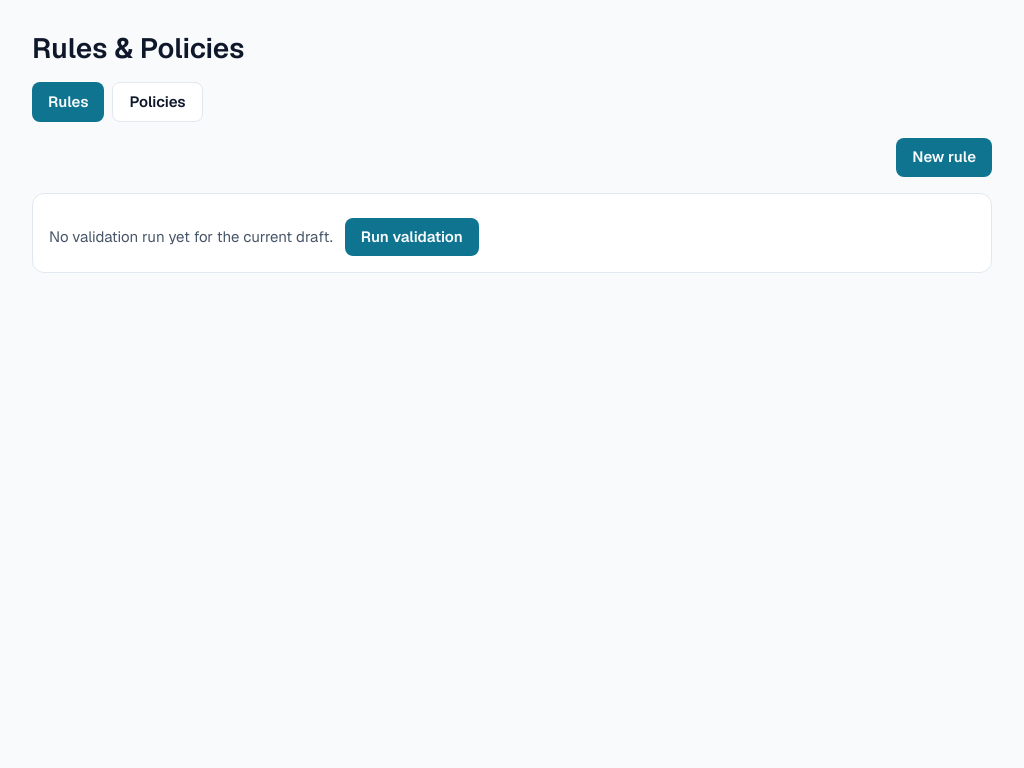
Test case: CeRulesPage › opens the New rule drawer and refreshes the rule list once a rule is committed
Expected: the text "No validation run yet for the current draft." is shown, [49,226,333,248]
Click the button "New rule" at (944, 157), box [896,138,992,177]
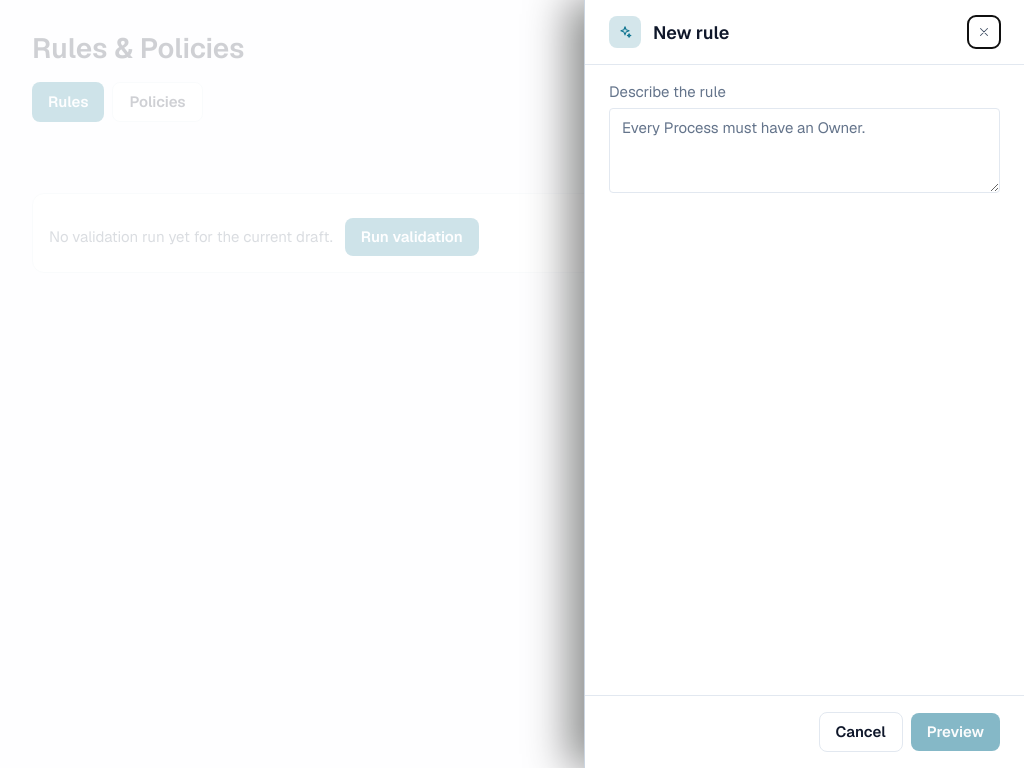
Type "Every Foo must have a bar." into the text box labelled "Describe the rule" at (804, 150), box [609,108,1000,193]
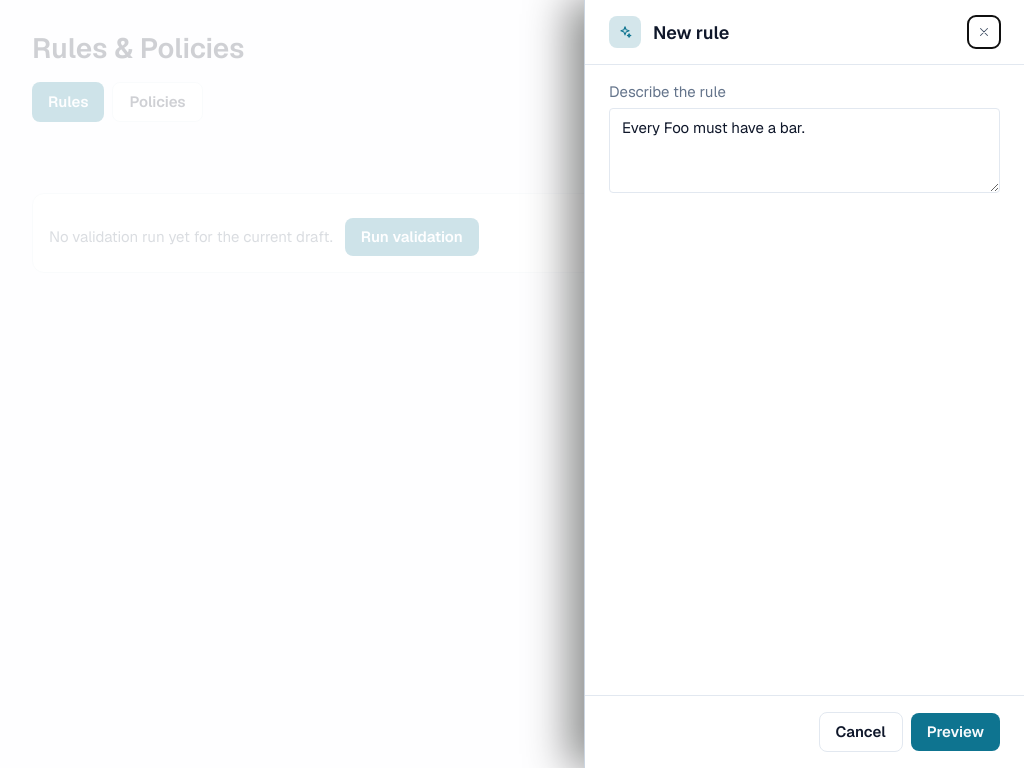
Click the button "Preview" at (955, 732), box [911,712,1000,751]
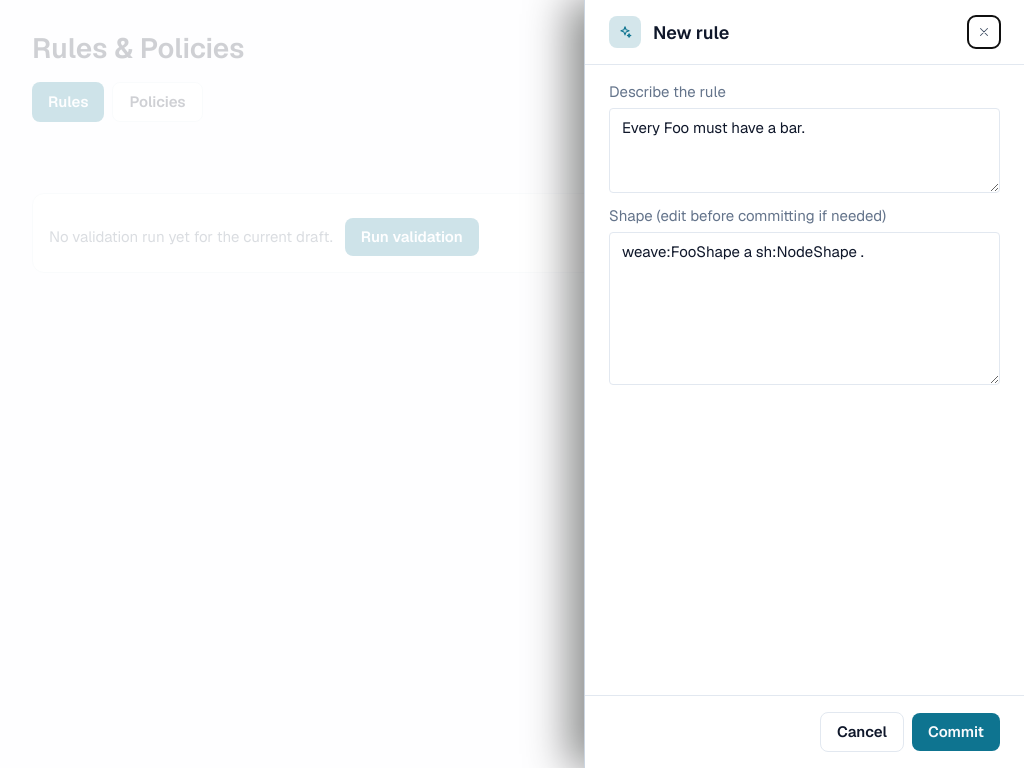
Expected: the text box showing "weave:FooShape a sh:NodeShape ." is shown, [609,232,1000,384]
Click the button "Commit" at (956, 732), box [912,712,1000,751]
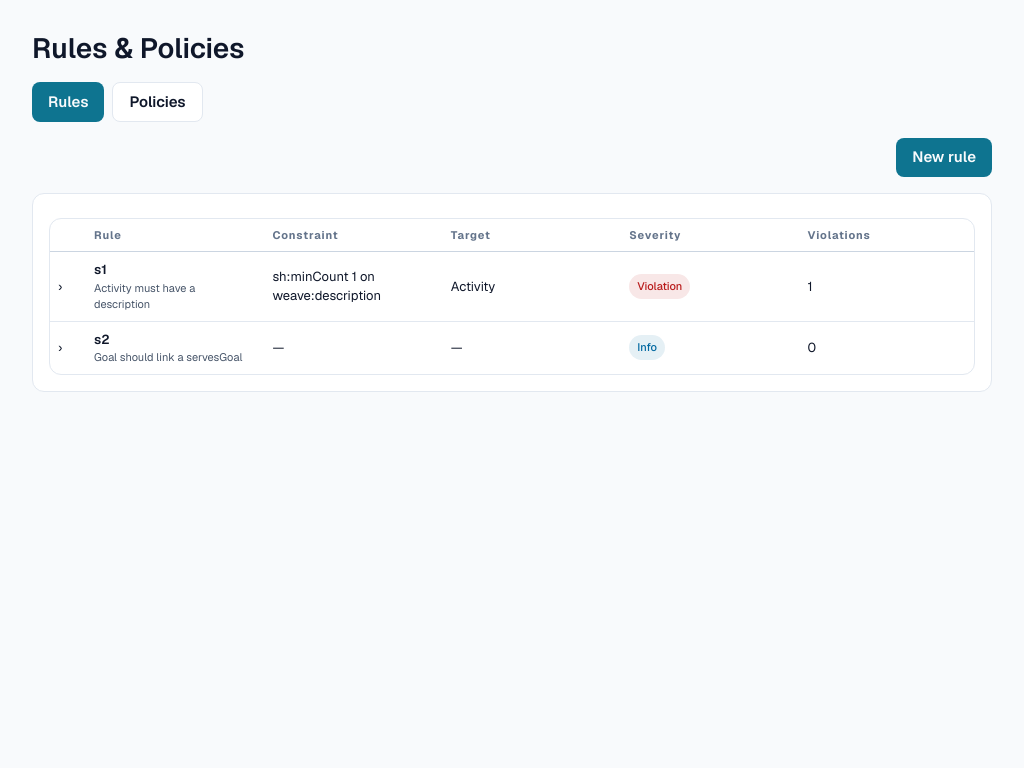
Expected: the element with test id "rule-list" is shown, [49,218,975,375]
